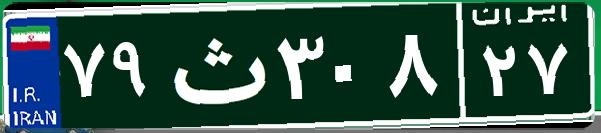0: (330, 28, 385, 110)
2: (475, 38, 525, 113)
3: (273, 28, 330, 110)
7: (57, 26, 110, 107), (525, 38, 570, 115)
8: (385, 28, 445, 110)
9: (110, 28, 158, 105)
ث: (158, 15, 273, 115)
